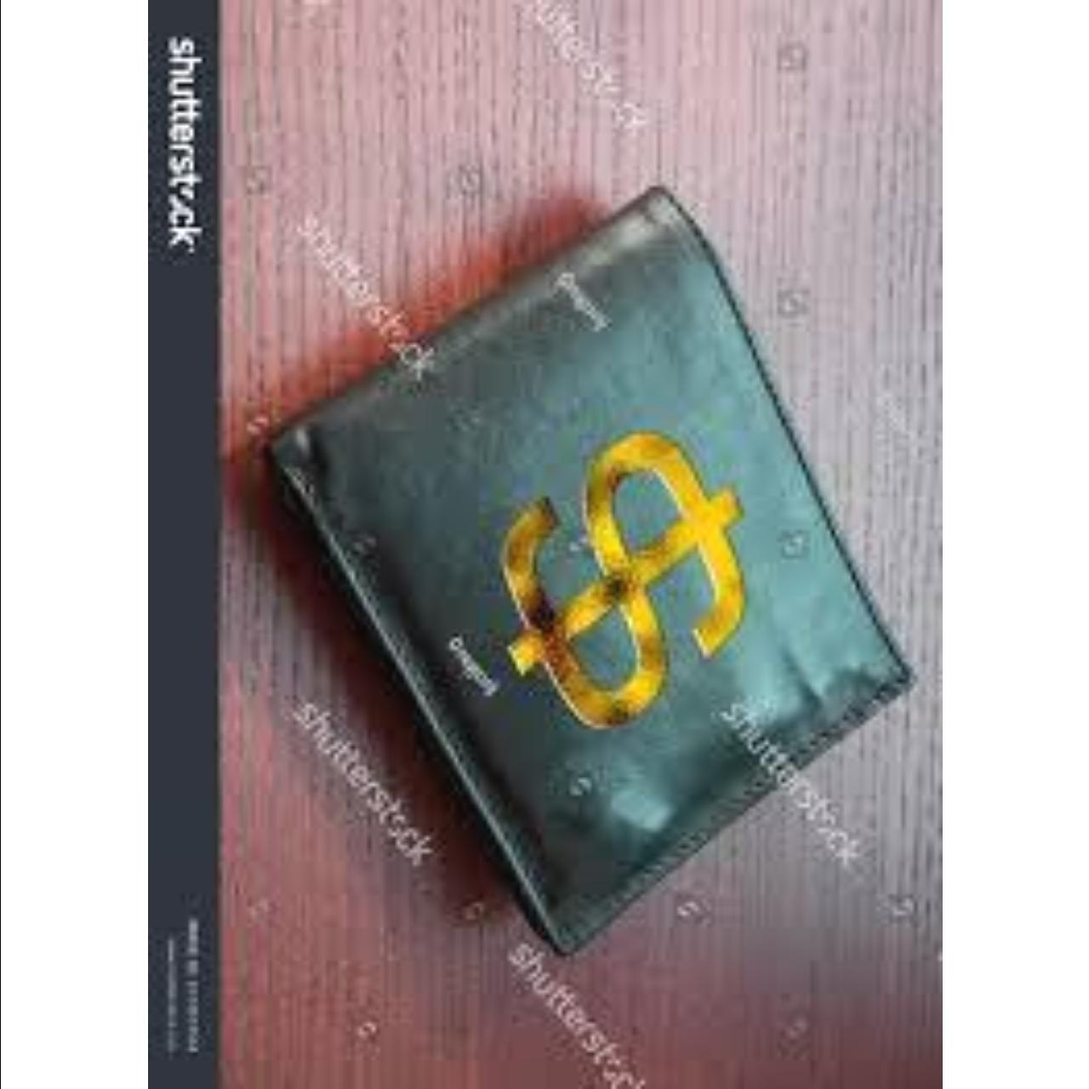wallet: (261, 226, 918, 984)
